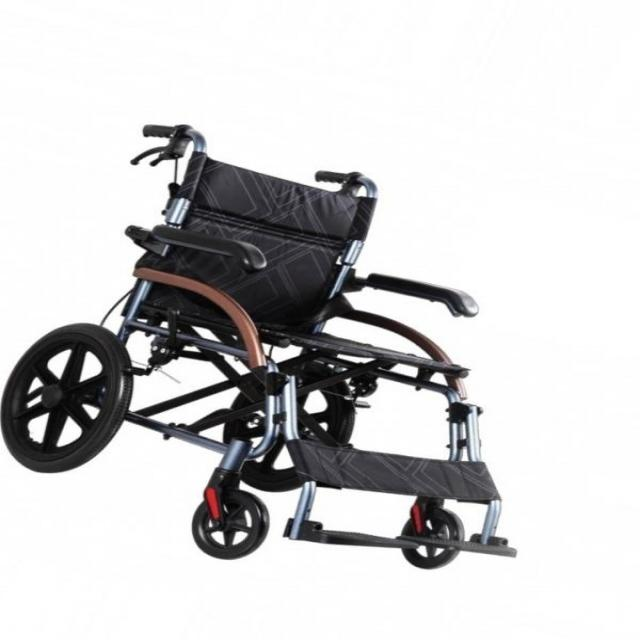wheelchair: (1, 100, 526, 581)
